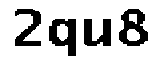2: (11, 4, 46, 48)
8: (118, 5, 152, 49)
q: (49, 16, 80, 60)
u: (81, 14, 118, 51)
